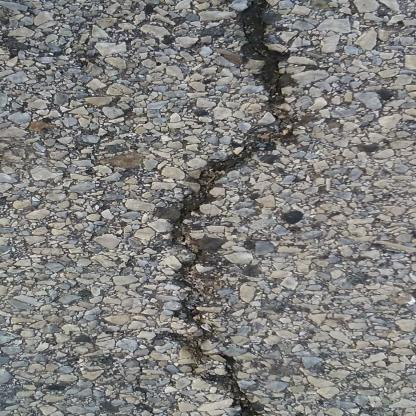Cracks: (168, 0, 303, 416)
